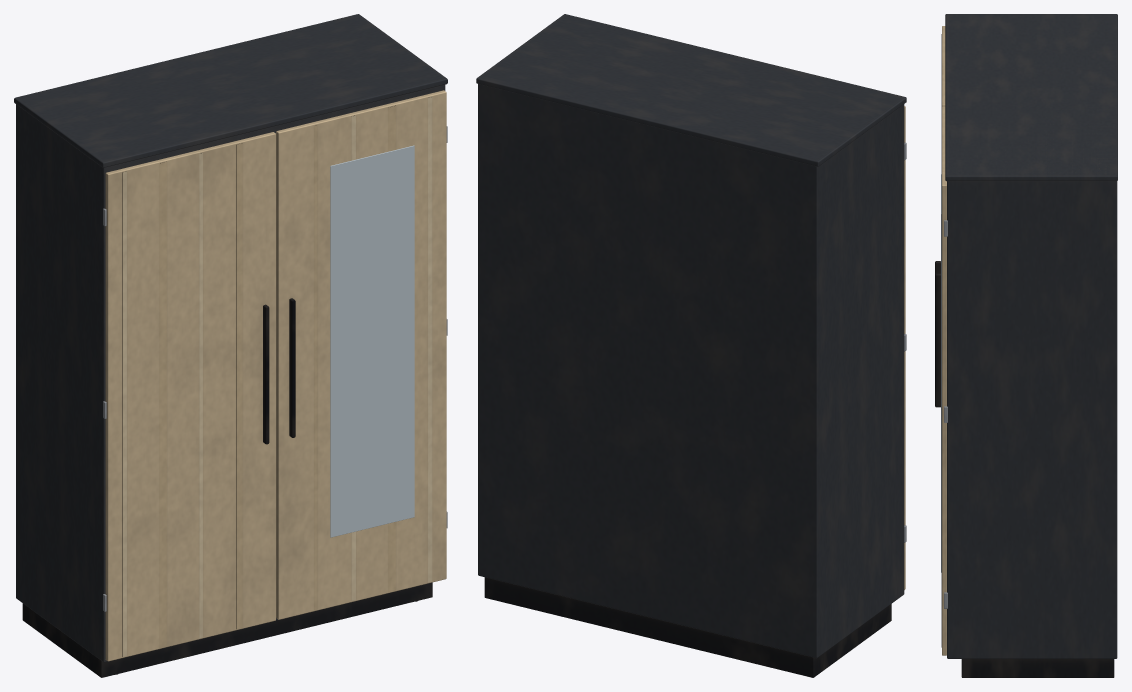
Rendered from dom_szafa.glb.
3 renders of one model, left to right at view 1: azimuth 30°, elevation 25°; view 2: azimuth 150°, elevation 25°; view 3: azimuth 270°, elevation 25°, orthographic. The views are drawn at different scales.
Parts seen in each view (by area): view 1: Szafa, Lustro; view 2: Szafa; view 3: Szafa, Lustro.
Part boxes in pixels (left/top/right/bottom): Szafa: left=14, top=14, right=447, bottom=677; Lustro: left=330, top=145, right=414, bottom=537; Szafa: left=476, top=14, right=906, bottom=677; Szafa: left=935, top=14, right=1117, bottom=677; Lustro: left=941, top=174, right=941, bottom=572.
Bounding box in the file's own units: 1.31 × 1.9 × 0.623.
2 materials, 1 textured.
